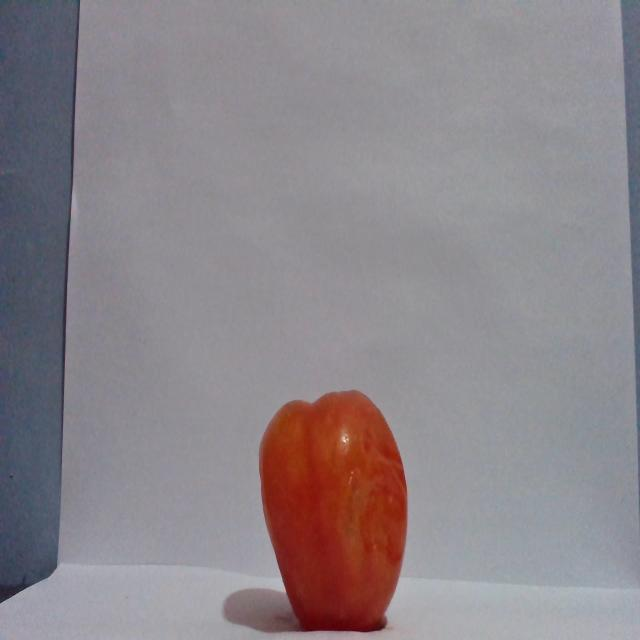Red: (257, 387, 409, 631)
